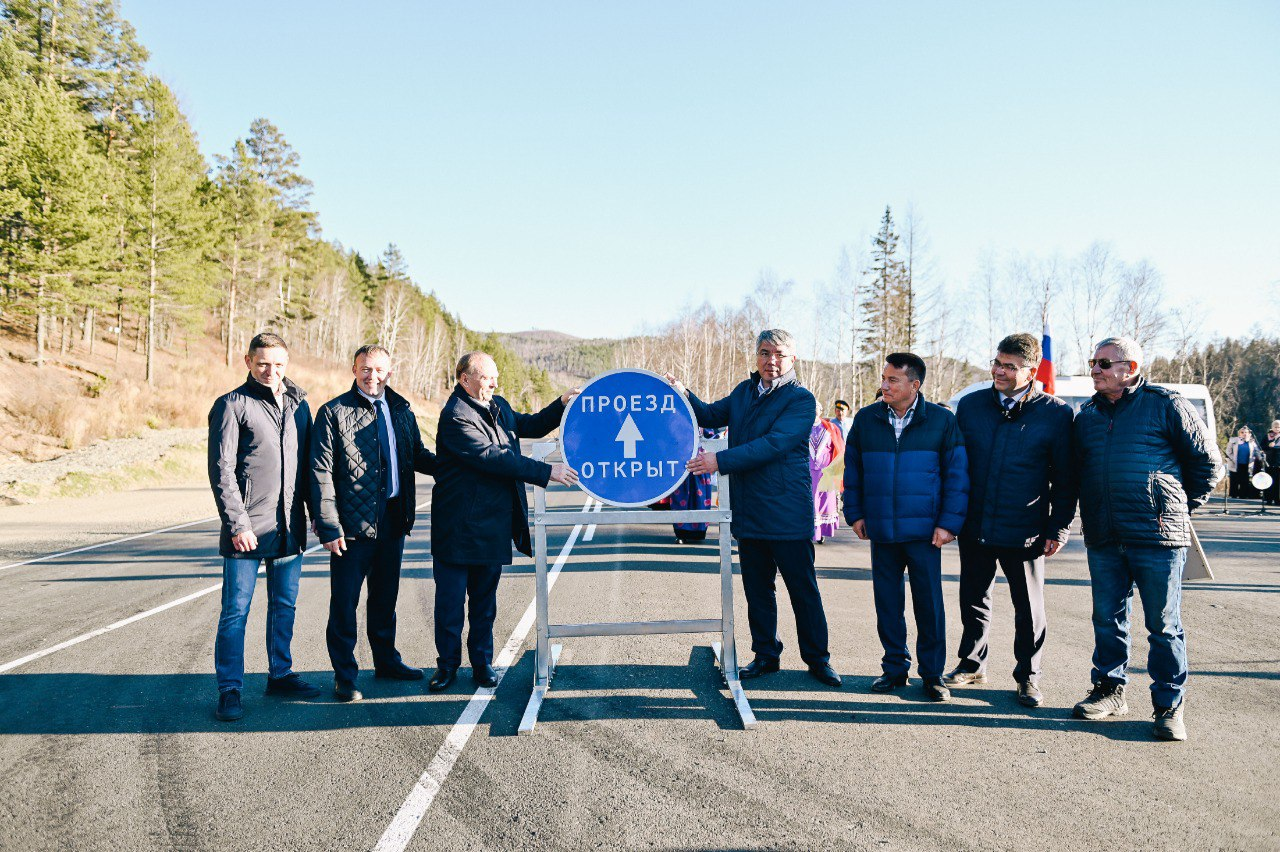sign: (558, 366, 701, 512)
